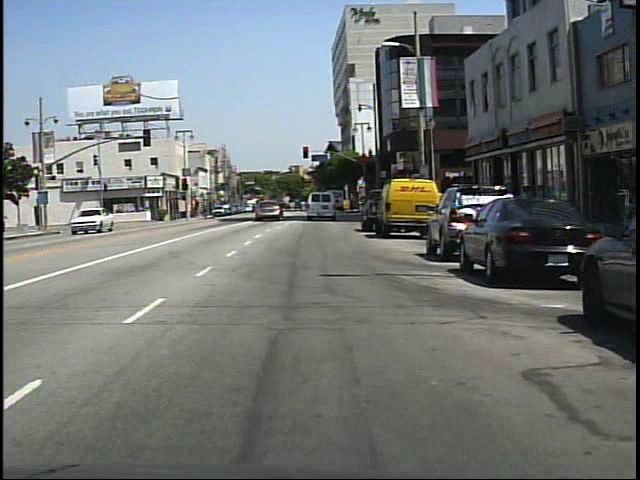person: (253, 192, 270, 222), (92, 202, 107, 230)
